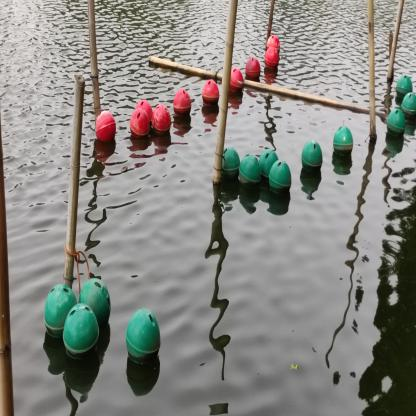green_buoy: (125, 306, 164, 365), (62, 303, 100, 361), (44, 282, 78, 338), (78, 278, 110, 331), (268, 158, 292, 197), (300, 140, 324, 174), (238, 153, 260, 189), (332, 125, 355, 157), (259, 147, 279, 180), (386, 107, 406, 139), (221, 147, 240, 180), (396, 74, 414, 98), (401, 91, 416, 118)
red_buoy: (95, 109, 117, 143), (128, 107, 150, 140), (151, 103, 172, 134), (172, 88, 192, 116), (202, 78, 220, 107), (135, 99, 153, 127), (228, 67, 244, 94), (244, 56, 262, 80), (264, 46, 279, 70), (266, 33, 281, 54)
